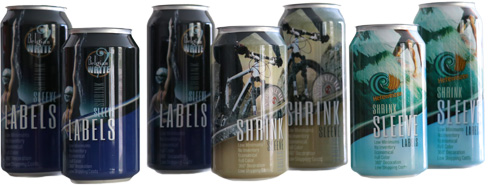beer can: (1, 1, 74, 180), (275, 1, 349, 177), (145, 3, 219, 176), (412, 3, 488, 170), (349, 21, 429, 178), (210, 25, 289, 183), (61, 25, 139, 185)
